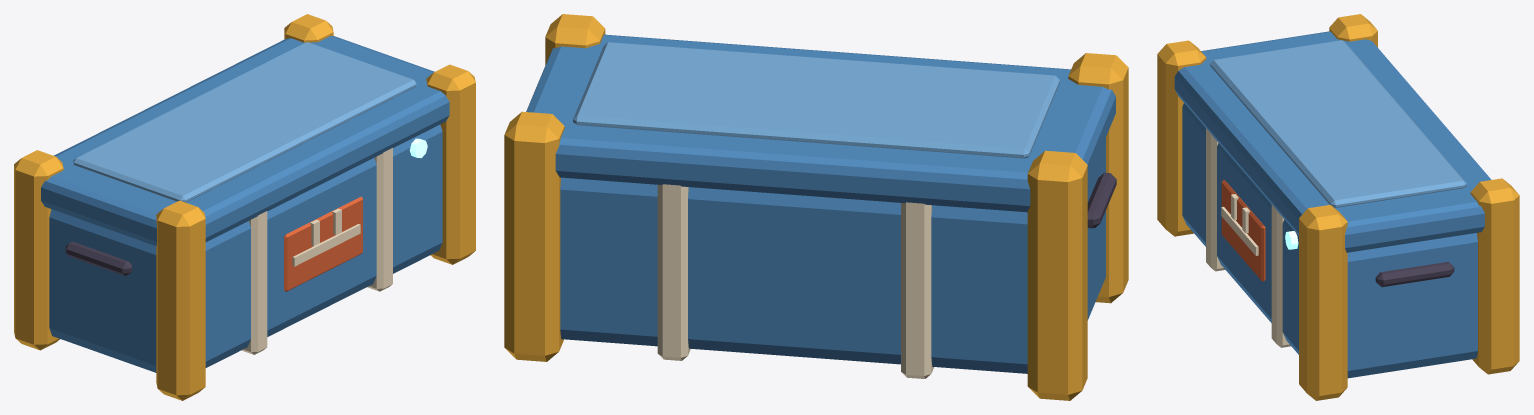
Rendered from MOONSHIFT_ITM_Crate_Long_2Tile.glb.
The picture shows the model from 3 angles, left to right: view 1: azimuth 30°, elevation 25°; view 2: azimuth 150°, elevation 25°; view 3: azimuth 270°, elevation 25°; orthographic projection. The views are drawn at different scales.
Visible parts, largest first — view 1: Crate_Long_2Tile_Body, Crate_Long_2Tile_LidTop, Crate_Long_2Tile_Lid, Crate_Long_2Tile_Corner00, Crate_Long_2Tile_Corner01, Crate_Long_2Tile_Corner10, Crate_Long_2Tile_Label, Crate_Long_2Tile_Band0, Crate_Long_2Tile_Band1, Crate_Long_2Tile_Handle_A, Crate_Long_2Tile_Corner11, Crate_Long_2Tile_LabelStripe; view 2: Crate_Long_2Tile_Body, Crate_Long_2Tile_LidTop, Crate_Long_2Tile_Lid, Crate_Long_2Tile_Corner01, Crate_Long_2Tile_Corner11, Crate_Long_2Tile_Corner00, Crate_Long_2Tile_Band1, Crate_Long_2Tile_Band0, Crate_Long_2Tile_Corner10, Crate_Long_2Tile_Handle_A; view 3: Crate_Long_2Tile_Body, Crate_Long_2Tile_LidTop, Crate_Long_2Tile_Lid, Crate_Long_2Tile_Corner10, Crate_Long_2Tile_Corner11, Crate_Long_2Tile_Corner00, Crate_Long_2Tile_Label, Crate_Long_2Tile_Band1, Crate_Long_2Tile_Band0, Crate_Long_2Tile_Handle_B, Crate_Long_2Tile_Corner01, Crate_Long_2Tile_LabelStripe.
Part boxes in pixels (x1,y1,x2,y2): Crate_Long_2Tile_Body: (49,124,442,372); Crate_Long_2Tile_LidTop: (73,42,416,202); Crate_Long_2Tile_Lid: (41,36,449,246); Crate_Long_2Tile_Corner00: (156,200,205,400); Crate_Long_2Tile_Corner01: (14,150,63,350); Crate_Long_2Tile_Corner10: (426,64,475,264); Crate_Long_2Tile_Label: (284,196,362,291); Crate_Long_2Tile_Band0: (241,211,267,354); Crate_Long_2Tile_Band1: (367,148,392,291); Crate_Long_2Tile_Handle_A: (65,241,132,276); Crate_Long_2Tile_Corner11: (284,14,333,42); Crate_Long_2Tile_LabelStripe: (292,224,360,266); Crate_Long_2Tile_Body: (560,138,1105,373); Crate_Long_2Tile_LidTop: (573,42,1059,158); Crate_Long_2Tile_Lid: (526,34,1115,212); Crate_Long_2Tile_Corner01: (1027,150,1087,400); Crate_Long_2Tile_Corner11: (504,111,564,361); Crate_Long_2Tile_Corner00: (1068,53,1128,303); Crate_Long_2Tile_Band1: (657,184,690,360); Crate_Long_2Tile_Band0: (901,202,933,378); Crate_Long_2Tile_Corner10: (545,14,605,64); Crate_Long_2Tile_Handle_A: (1087,172,1116,228); Crate_Long_2Tile_Body: (1182,103,1477,378); Crate_Long_2Tile_LidTop: (1210,40,1466,207); Crate_Long_2Tile_Lid: (1174,31,1491,252); Crate_Long_2Tile_Corner10: (1299,205,1347,400); Crate_Long_2Tile_Corner11: (1470,178,1519,374); Crate_Long_2Tile_Corner00: (1157,40,1206,236); Crate_Long_2Tile_Label: (1221,180,1265,281); Crate_Long_2Tile_Band1: (1271,204,1290,347); Crate_Long_2Tile_Band0: (1206,128,1225,271); Crate_Long_2Tile_Handle_B: (1375,262,1454,287); Crate_Long_2Tile_Corner01: (1329,14,1377,47); Crate_Long_2Tile_LabelStripe: (1221,206,1258,255).
Bounding box in the file's own units: 2.08 × 0.84 × 1.51.
